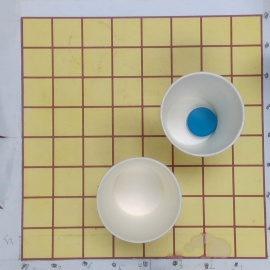cup: (95, 157, 183, 244)
cup_blue: (159, 72, 245, 158)
